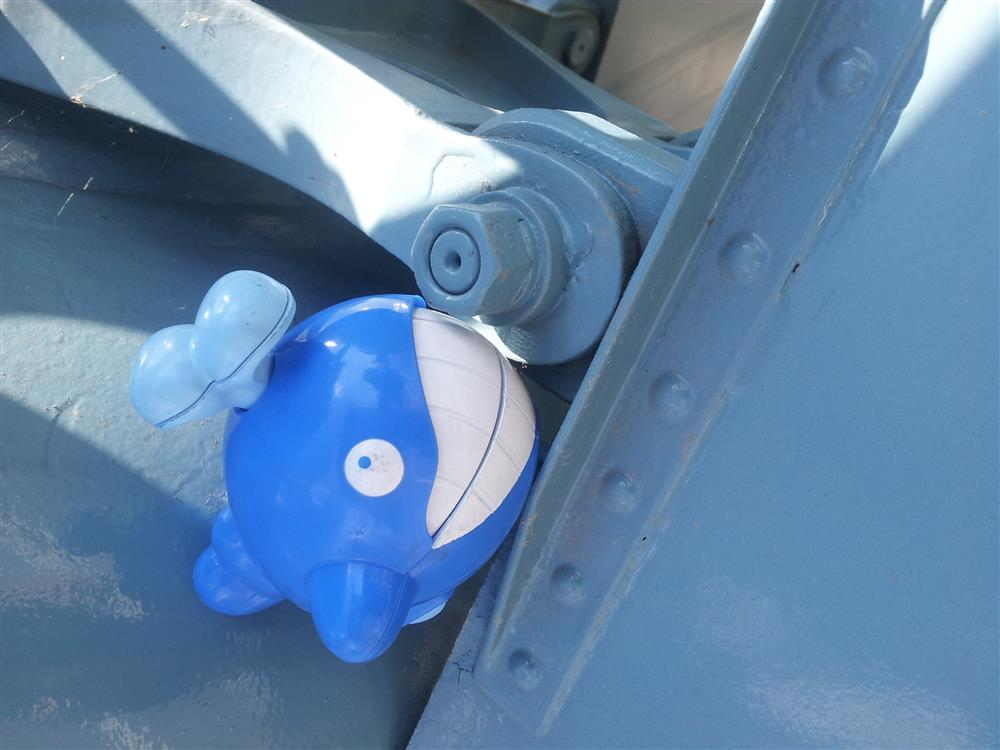toy_whale: (130, 262, 541, 666)
